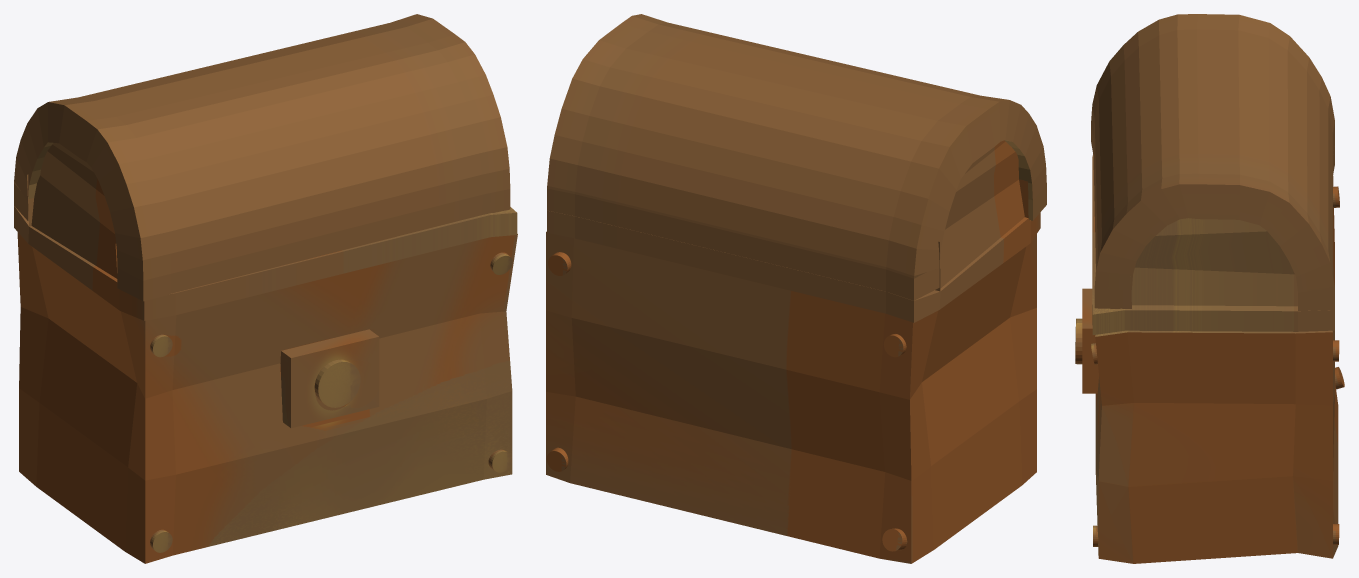
File: skrinja.glb
3 views of the same model, side by side, from view 1: azimuth 30°, elevation 25°; view 2: azimuth 150°, elevation 25°; view 3: azimuth 270°, elevation 25° (orthographic). The views are drawn at different scales.
Parts seen in each view (by area): view 1: Cube; view 2: Cube; view 3: Cube.
Part boxes in pixels (x1=…): Cube: x1=14, y1=14, x2=517, y2=563; Cube: x1=546, y1=14, x2=1046, y2=563; Cube: x1=1075, y1=14, x2=1344, y2=563.
Bounding box in the file's own units: 6.36 × 6.5 × 4.18.
1 material, 1 textured.
